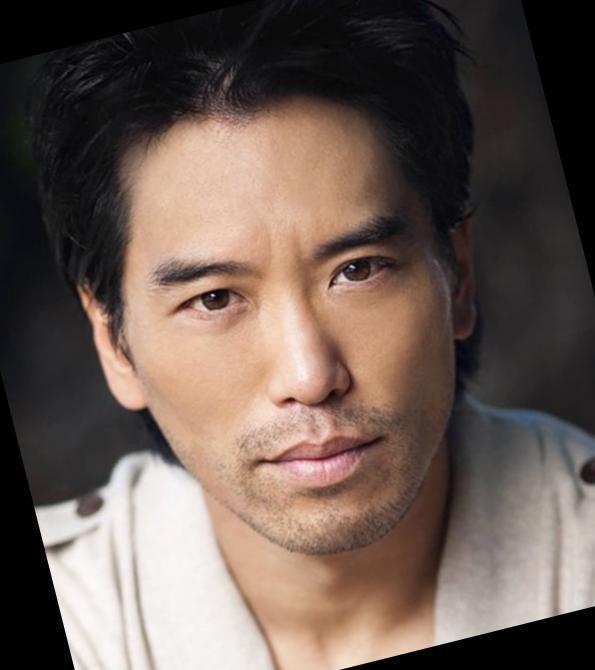Sober: (145, 129, 431, 518)
